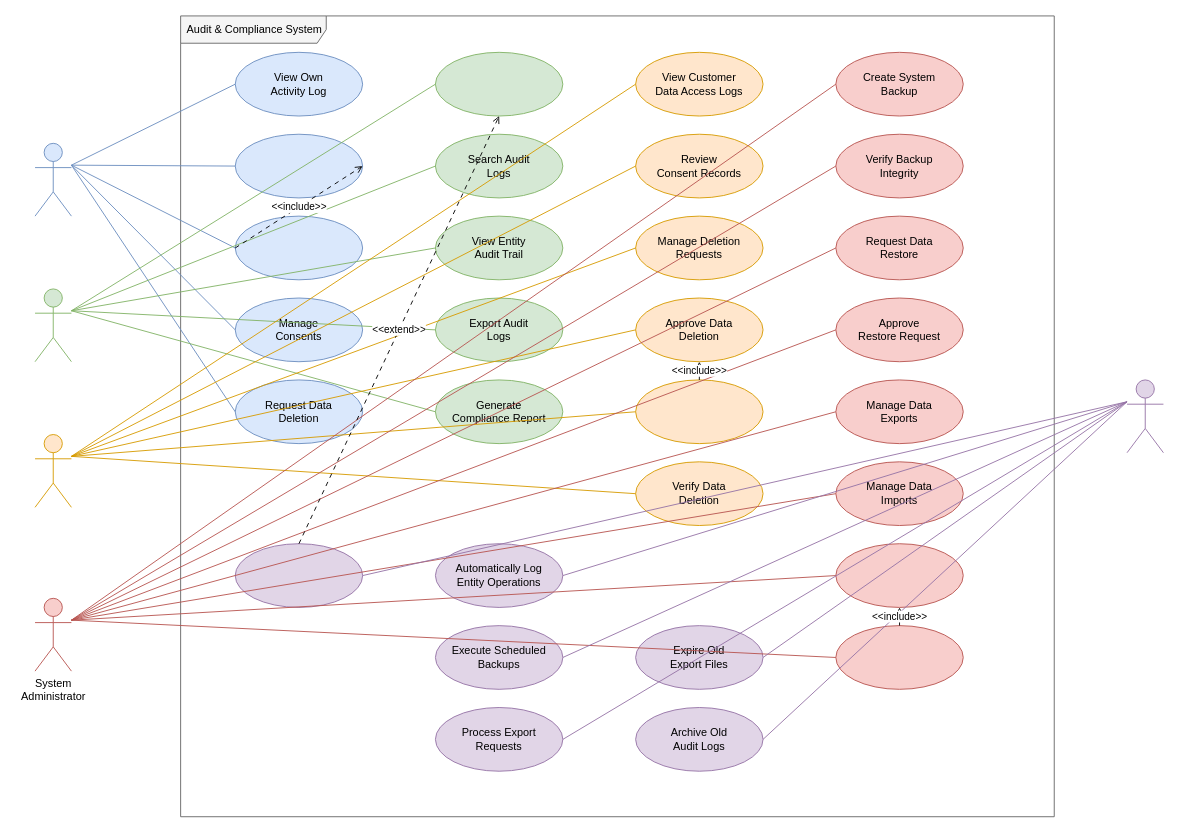
Some shapes in this 1179 by 833 pixel diagram are drawn without their labels. The centre of each missing label's shape, as x and y in pixels:
"Auditor" goes at [52,325].
"Customer" goes at [52,179].
"Data Protection Officer" goes at [52,470].
"Detect Audit Anomalies" goes at [298,575].
"Download Personal Data" goes at [298,247].
"Execute Data Deletion" goes at [699,411].
"Request Data Export" goes at [298,165].
"System" goes at [1144,416].
"Upload Import File" goes at [899,575].
"Validate Import Data" goes at [899,657].
"View Audit Logs" goes at [499,83].
